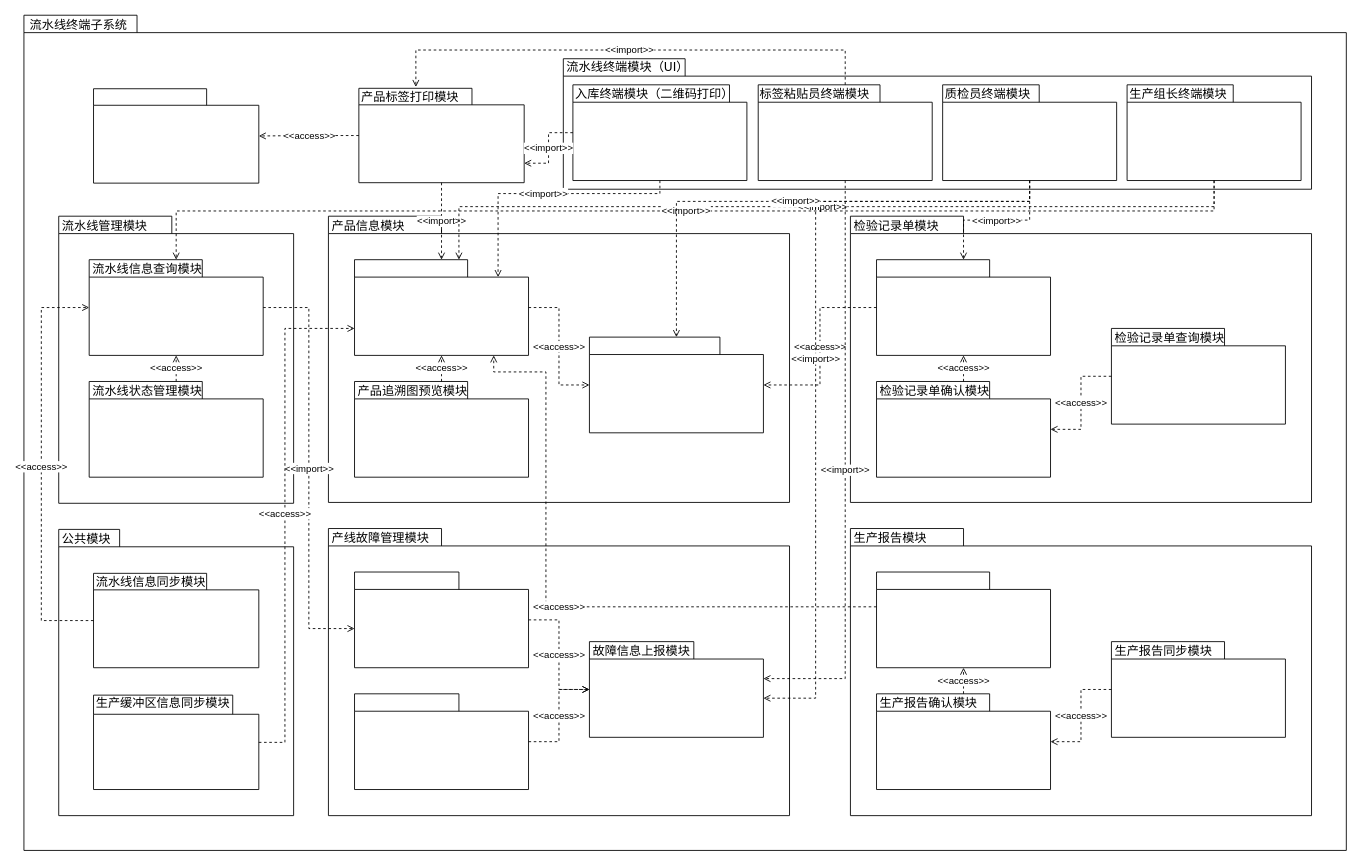
Image size: 1362x866. Some labels were removed from this diagram. The shapes that lost their labels are listed below. From the top down, each one's centre as x and y in pixels, then its label:
[176,135]: 二维码标签预览模块
[441,307]: 产品信息查询模块
[963,307]: 检验记录单生成模块
[676,384]: 产品缺陷信息上报模块
[441,619]: 故障信息查询模块
[963,619]: 生产报告生成模块
[441,741]: 故障报警模块
